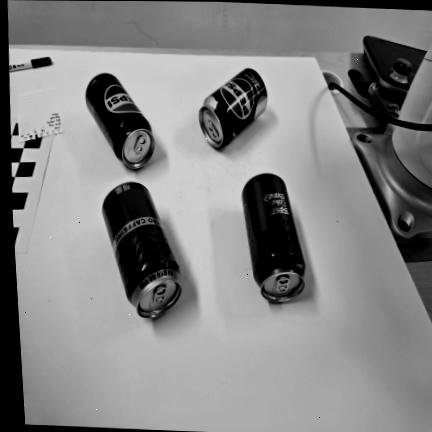can_coke_decaf: (102, 182, 181, 318)
can_coke_zero: (242, 173, 306, 302)
can_pepsi: (85, 73, 154, 169)
can_pepsi_zero: (199, 69, 267, 147)
